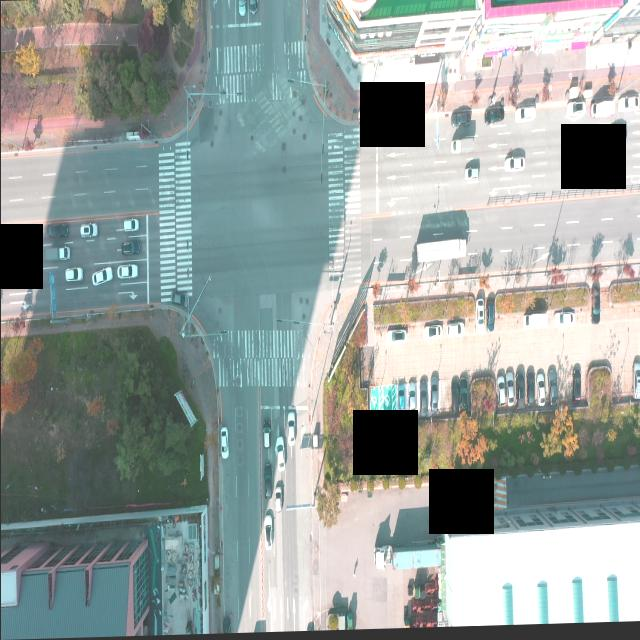car: (91, 264, 113, 286), (428, 376, 438, 421), (618, 96, 640, 116), (547, 367, 557, 410), (422, 323, 442, 344), (630, 362, 640, 403), (570, 370, 581, 407), (458, 374, 468, 414), (553, 312, 575, 330), (512, 109, 536, 125), (264, 513, 274, 551), (168, 290, 188, 309), (384, 329, 406, 346), (514, 375, 524, 412), (120, 239, 140, 257), (286, 412, 296, 448), (484, 110, 504, 128), (590, 291, 600, 327), (446, 321, 466, 339), (503, 158, 525, 174), (218, 426, 228, 461), (79, 221, 97, 240), (116, 265, 136, 282), (606, 127, 626, 144), (275, 438, 285, 472), (418, 380, 426, 421), (48, 222, 68, 238), (407, 383, 415, 423), (526, 373, 534, 413), (566, 103, 584, 120), (474, 299, 482, 337), (486, 302, 495, 334), (264, 465, 272, 500), (8, 248, 24, 265), (274, 481, 282, 514), (536, 377, 544, 410), (64, 269, 82, 283), (496, 379, 504, 409), (122, 218, 139, 232), (262, 424, 270, 452), (463, 169, 479, 183), (506, 382, 514, 410), (452, 106, 471, 117), (396, 386, 404, 412), (247, 0, 257, 16), (237, 0, 246, 17)
large_truck: (372, 544, 442, 579)
medium_truck: (412, 238, 467, 267)
small_truck: (524, 311, 548, 334), (41, 245, 69, 264), (449, 140, 474, 157), (590, 103, 614, 120)
